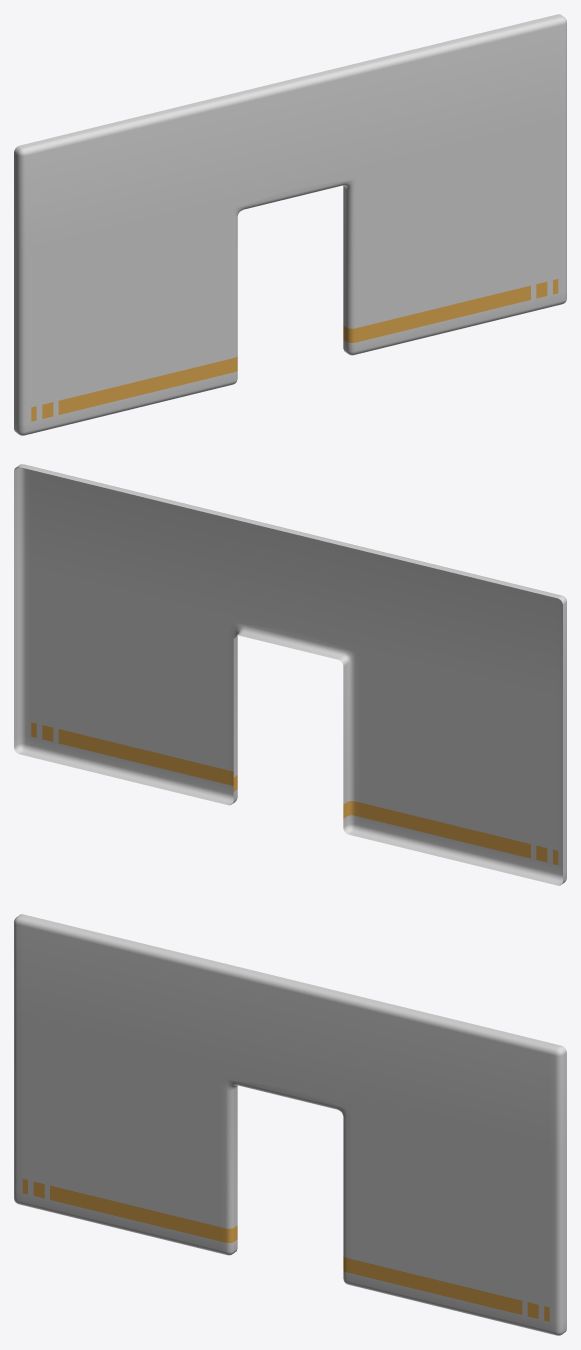
File: lab_set_panel_opening_000.fbx
The picture shows the model from 3 angles, top to bottom: view 1: azimuth 30°, elevation 25°; view 2: azimuth 150°, elevation 25°; view 3: azimuth 330°, elevation 25°; orthographic projection.
Parts seen in each view (by area): view 1: panel_opening.000; view 2: panel_opening.000; view 3: panel_opening.000.
Boxes of the visible parts, x1,y1,x2,y2 form: panel_opening.000: (14,14,566,435); panel_opening.000: (14,464,566,885); panel_opening.000: (14,914,566,1335).
Size of the model in its own units: 100 by 50 by 2.
